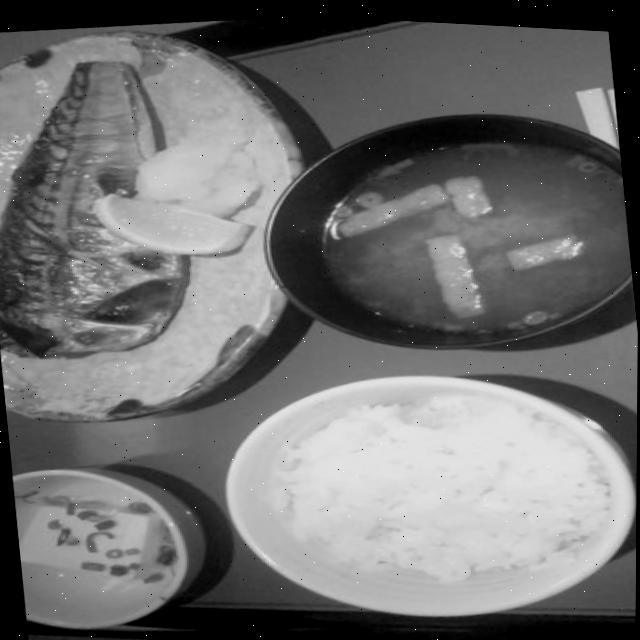汤锅炖物: (269, 109, 639, 362)
米饭主食: (257, 359, 612, 619)
豆腐料理: (11, 463, 183, 617)
